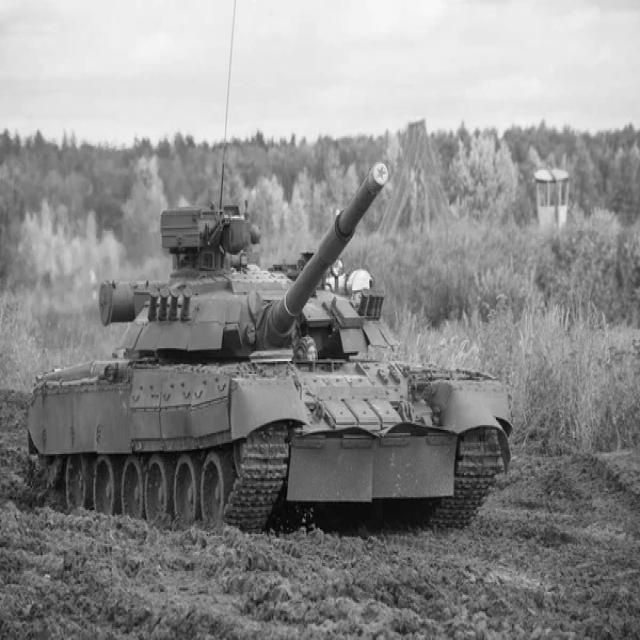Tank: (29, 156, 514, 532)
